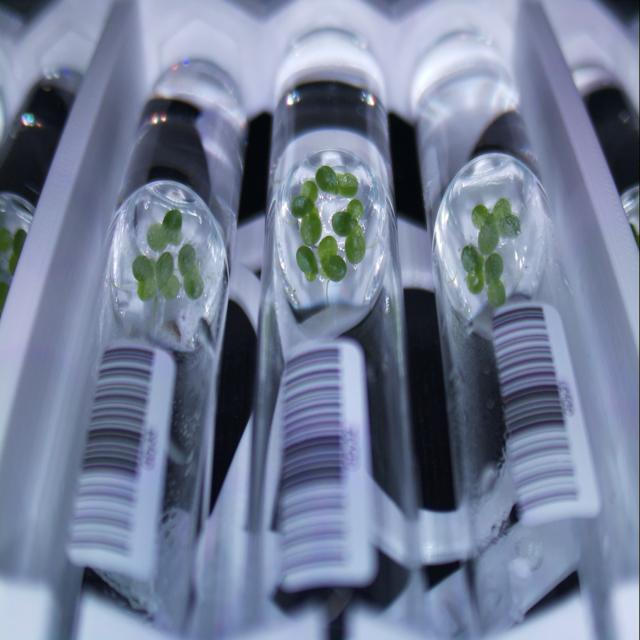Lemna-Gibba: (471, 197, 521, 256), (132, 250, 180, 302), (331, 198, 366, 264), (290, 180, 321, 247), (146, 208, 182, 252), (178, 243, 204, 299), (315, 165, 359, 197), (319, 235, 346, 282), (484, 252, 506, 307), (461, 245, 485, 294), (296, 245, 319, 282)
